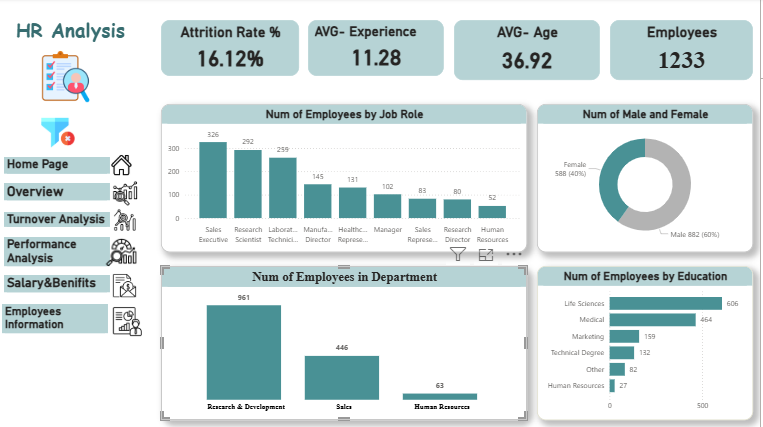

The page's visual inventory and layout, read from the dashboard file:
{"tool":"powerbi","page":{"name":"Overview","canvas":[1280,720],"ordinal":1},"visuals":[{"type":"card","title":"Employees","fields":{"Values":["CountNonNull(Project-DEPI.Attrition)"]},"box":[1028,37,240.2,100.8],"z":0},{"type":"textbox","title":"Home Page","box":[10.1,267.1,178.1,28.6],"z":0,"group":"g1"},{"type":"image","box":[184.8,514,65.5,58.8],"z":0,"group":"g2"},{"type":"card","title":"AVG- Age","fields":{"Values":["Avg(Project-DEPI.Age)"]},"box":[766,37,245.2,100.8],"z":1000},{"type":"group","id":"g1","title":"Group 1","box":[6.7,258.7,250.3,307.4],"z":1000,"group":"g2"},{"type":"textbox","title":"Overview","box":[10.1,310.8,178.1,28.6],"z":1000,"group":"g1"},{"type":"card","title":"AVG- Experience","fields":{"Values":["Avg(Project-DEPI.TotalWorkingYears)"]},"box":[520.7,37,228.5,94.1],"z":2000},{"type":"textbox","title":"Turnover Analysis","box":[10.1,359.5,178.1,25.2],"z":2000,"group":"g1"},{"type":"card","title":"Attrition Rate %","fields":{"Values":["Project-DEPI.Attrition Rate"]},"box":[273.8,37,231.8,94.1],"z":3000},{"type":"textbox","title":"Performance Analysis","box":[10.1,401.5,178.1,48.7],"z":3000,"group":"g1"},{"type":"clusteredColumnChart","title":"Num of Employees in Department","fields":{"Category":["Project-DEPI.Department"],"Y":["CountNonNull(Project-DEPI.Department)"]},"box":[273.8,450.2,614.8,258.7],"z":4000},{"type":"textbox","title":"Salary&Benifits","box":[10.1,465.3,178.1,30.2],"z":4000,"group":"g1"},{"type":"textbox","title":"Employees Information","box":[6.7,514,178.1,52.1],"z":5000,"group":"g1"},{"type":"textbox","title":"HR Analysis","box":[0.1,30.1,243.6,53.8],"z":6000,"group":"g3"},{"type":"group","id":"g2","title":"Group 2","box":[6.7,258.7,250.3,314.1],"z":6000},{"type":"image","box":[171.3,258.7,72.2,43.7],"z":6000,"group":"g1"},{"type":"group","id":"g3","title":"Group 3","box":[0.1,30.1,243.6,149.4],"z":7000},{"type":"image","box":[6.6,83.8,213.3,95.7],"z":7000,"group":"g3"},{"type":"image","box":[169.6,302.4,87.3,52.1],"z":7000,"group":"g1"},{"type":"image","box":[6.7,193.2,188.1,65.5],"z":8000},{"type":"image","box":[179.7,349.4,67.2,47],"z":8000,"group":"g1"},{"type":"clusteredBarChart","title":"Num of Employees by Education ","fields":{"Category":["Project-DEPI.EducationField"],"Y":["CountNonNull(Project-DEPI.EducationField)"]},"box":[905.4,450.2,362.8,258.7],"z":8001},{"type":"clusteredColumnChart","title":"Num of Employees by Job Role","fields":{"Category":["Project-DEPI.JobRole"],"Y":["CountNonNull(Project-DEPI.JobRole)"]},"box":[273.8,178.1,614.8,248.6],"z":8002},{"type":"donutChart","title":"Num of Male and Female","fields":{"Category":["Project-DEPI.Gender"],"Y":["CountNonNull(Project-DEPI.Gender)"]},"box":[905.4,178.1,362.8,248.6],"z":8003},{"type":"image","box":[168,396.4,79,62.2],"z":9000,"group":"g1"},{"type":"image","box":[168,458.6,89,48.7],"z":10000,"group":"g1"}]}

Visuals, with their boxes in screenshot pixels (x1, y1, x2, y2), scaled from the page's 1280x720 canvas onto the 763x427 screenshot:
"Employees" card: (613,22,756,82)
"Home Page" textbox: (6,158,112,175)
image: (110,305,149,340)
"AVG- Age" card: (457,22,603,82)
"Group 1" group: (4,153,153,336)
"Overview" textbox: (6,184,112,201)
"AVG- Experience" card: (310,22,447,78)
"Turnover Analysis" textbox: (6,213,112,228)
"Attrition Rate %" card: (163,22,301,78)
"Performance Analysis" textbox: (6,238,112,267)
"Num of Employees in Department" clusteredColumnChart: (163,267,530,420)
"Salary&Benifits" textbox: (6,276,112,294)
"Employees Information" textbox: (4,305,110,336)
"HR Analysis" textbox: (0,18,145,50)
"Group 2" group: (4,153,153,340)
image: (102,153,145,179)
"Group 3" group: (0,18,145,106)
image: (4,50,131,106)
image: (101,179,153,210)
image: (4,115,116,153)
image: (107,207,147,235)
"Num of Employees by Education " clusteredBarChart: (540,267,756,420)
"Num of Employees by Job Role" clusteredColumnChart: (163,106,530,253)
"Num of Male and Female" donutChart: (540,106,756,253)
image: (100,235,147,272)
image: (100,272,153,301)
